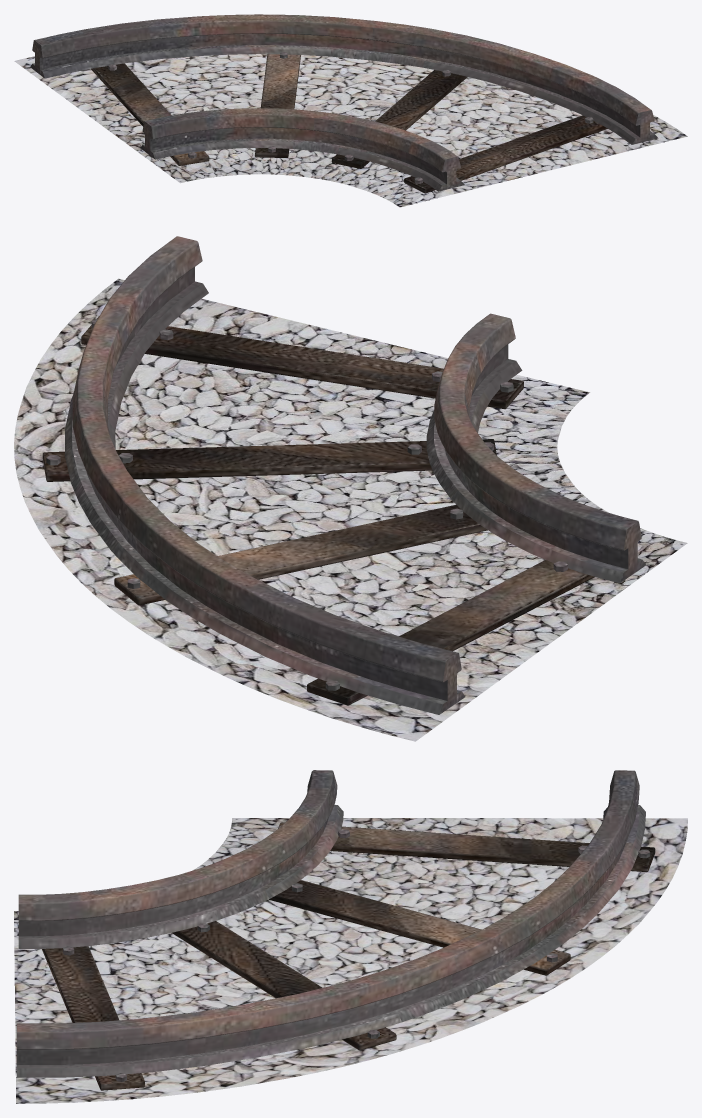
Rendered from rail_courbe.obj.
3 views of the same model, one above another, from view 1: azimuth 30°, elevation 25°; view 2: azimuth 150°, elevation 25°; view 3: azimuth 270°, elevation 25° (orthographic). The views are drawn at different scales.
Visible parts, largest first — view 1: rails.041_rails.046, rails.035_rails.040, rails.036_rails.041, rails.037_rails.042, rails.040_rails.045, rails.039_rails.044, rails.038_rails.043; view 2: rails.041_rails.046, rails.035_rails.040, rails.036_rails.041, rails.040_rails.045, rails.037_rails.042, rails.038_rails.043, rails.039_rails.044; view 3: rails.041_rails.046, rails.035_rails.040, rails.036_rails.041, rails.039_rails.044, rails.038_rails.043, rails.040_rails.045, rails.037_rails.042.
Boxes of the visible parts, box(x1,y1,x2,y2) form: rails.041_rails.046: box(14, 54, 687, 207); rails.035_rails.040: box(30, 14, 658, 144); rails.036_rails.041: box(140, 108, 464, 191); rails.037_rails.042: box(404, 115, 607, 193); rails.040_rails.045: box(332, 70, 467, 168); rails.039_rails.044: box(91, 63, 209, 165); rails.038_rails.043: box(255, 54, 300, 157); rails.041_rails.046: box(14, 278, 687, 741); rails.035_rails.040: box(65, 236, 465, 714); rails.036_rails.041: box(426, 313, 645, 583); rails.040_rails.045: box(42, 439, 496, 481); rails.037_rails.042: box(81, 316, 523, 409); rails.038_rails.043: box(114, 504, 487, 605); rails.039_rails.044: box(307, 560, 594, 705); rails.041_rails.046: box(14, 818, 687, 1103); rails.035_rails.040: box(16, 770, 645, 1077); rails.036_rails.041: box(18, 770, 343, 948); rails.039_rails.044: box(279, 822, 655, 871); rails.038_rails.043: box(269, 880, 570, 975); rails.040_rails.045: box(172, 921, 396, 1050); rails.037_rails.042: box(42, 946, 144, 1090).
Bounding box in the file's own units: 445 × 35 × 443.
Materials: 2 (2 with a texture image).
